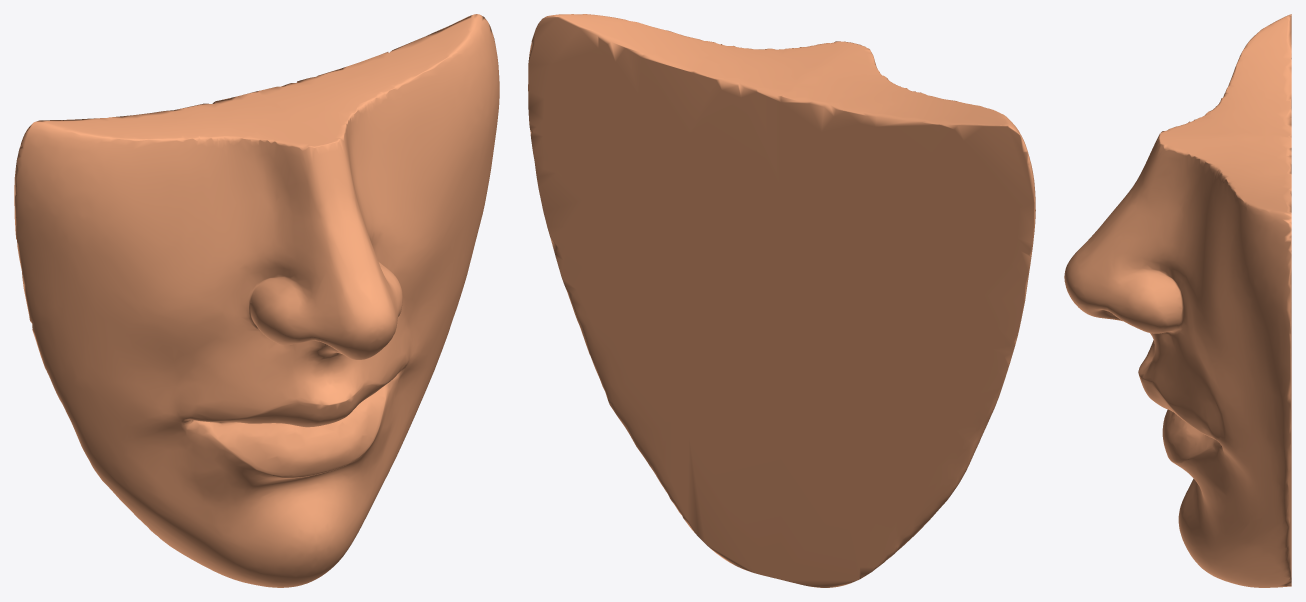
File: nose.glb
3 views of the same model, side by side, from view 1: azimuth 30°, elevation 25°; view 2: azimuth 150°, elevation 25°; view 3: azimuth 270°, elevation 25° (orthographic). The views are drawn at different scales.
Visible parts, largest first — view 1: narizBoca; view 2: narizBoca; view 3: narizBoca.
Boxes of the visible parts, <box> form: narizBoca: <box>14,14,499,587</box>; narizBoca: <box>528,14,1035,587</box>; narizBoca: <box>1064,14,1291,587</box>.
Bounding box in the file's own units: 1.93 × 1.88 × 0.8439.
